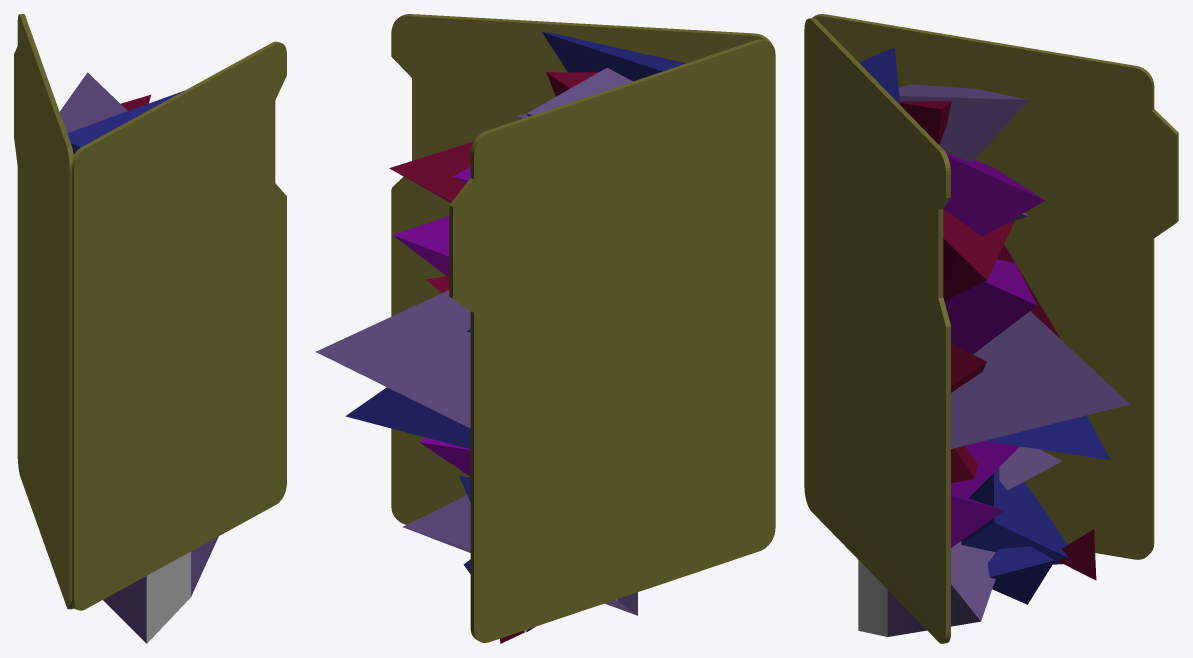
The model's file is Blaster_Tower 1.fbx.
3 views of the same model, side by side, from view 1: azimuth 30°, elevation 25°; view 2: azimuth 150°, elevation 25°; view 3: azimuth 270°, elevation 25° (orthographic). The views are drawn at different scales.
Visible parts, largest first — view 1: Blaster_Tower_; view 2: Blaster_Tower_; view 3: Blaster_Tower_.
Boxes of the visible parts, <box> form: Blaster_Tower_: <box>14,14,286,643</box>; Blaster_Tower_: <box>316,14,775,643</box>; Blaster_Tower_: <box>804,14,1178,643</box>.
Bounding box in the file's own units: 2.88 × 5.18 × 3.1.
